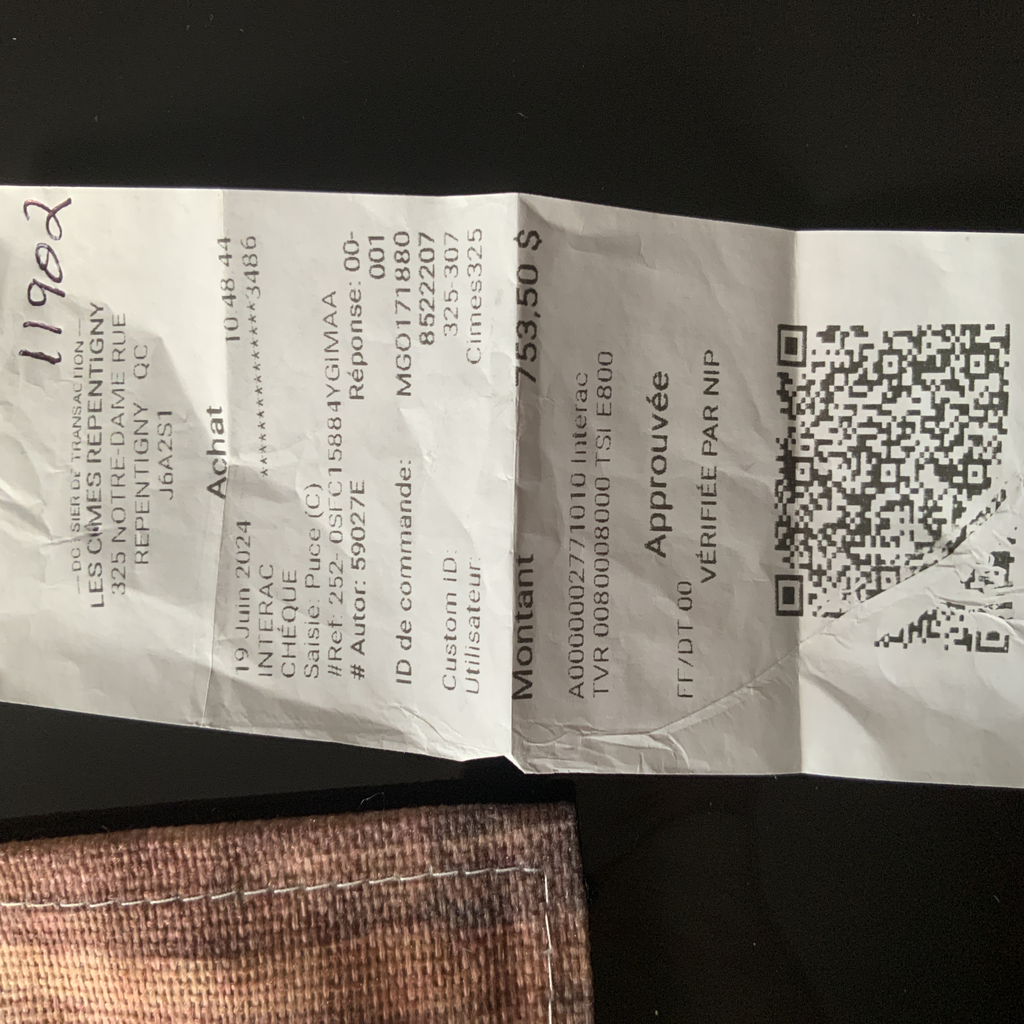recipt: (4, 185, 1024, 787)
